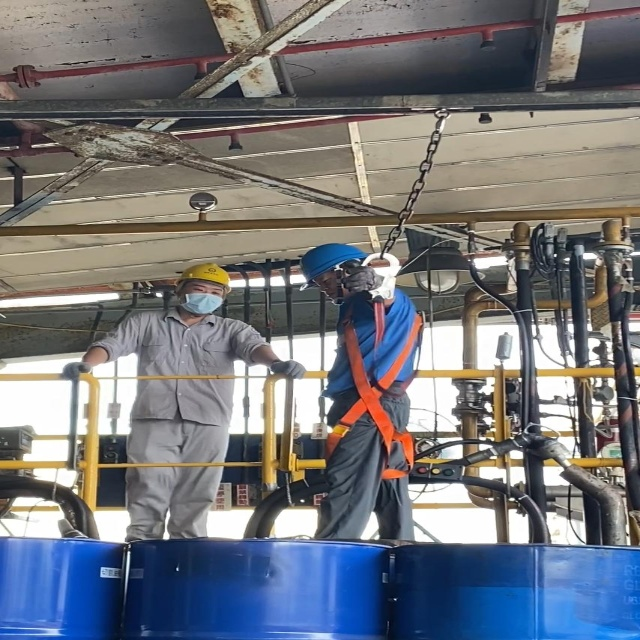Arnes_seguridad: (324, 297, 425, 484)
